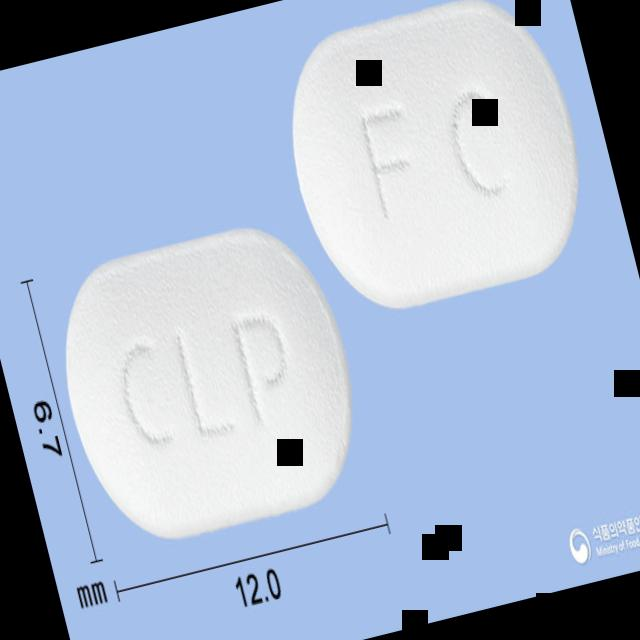Ciproctan - 500mg: (38, 207, 378, 560), (265, 0, 606, 327)
